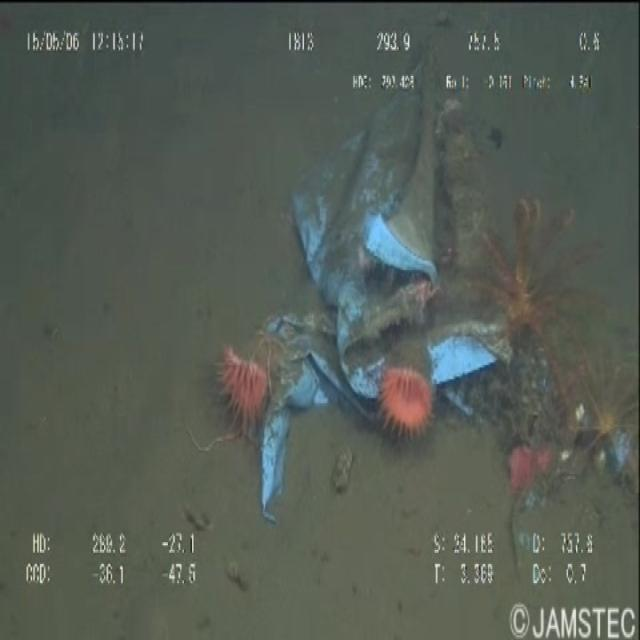Accessories: (225, 121, 509, 522)
